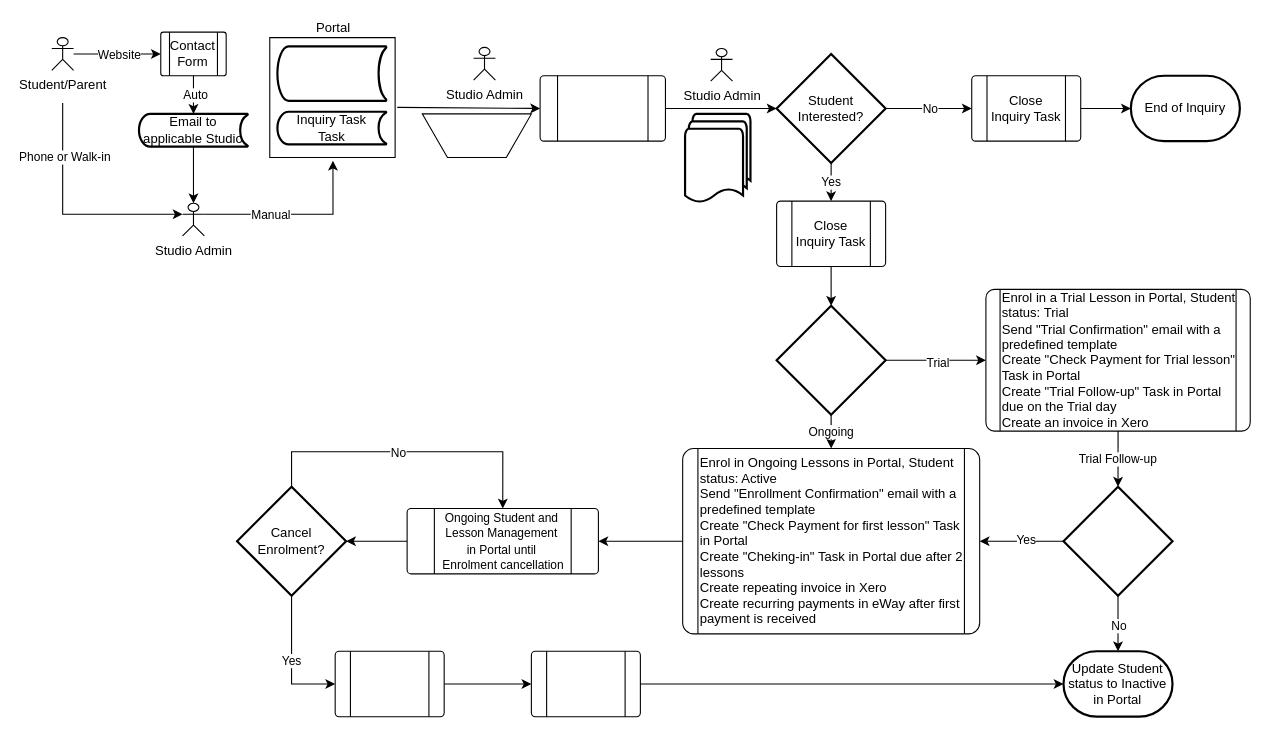
Image size: 1270x736. Some labels were removed from this diagram. The centre of each missing label's shape, as x and y in pixels:
Cancel recurring payments: (389,683)
Cancel repeating invoice: (585,683)
Email or Phone Call or SMS: (476,135)
Follow up with Student: (602,108)
Max 5 attempts over 2 weeks: (717,158)
Prospective Student: (331,73)
Student Keen to Enrol: (1117,540)
Trial or Ongoing?: (830,359)
